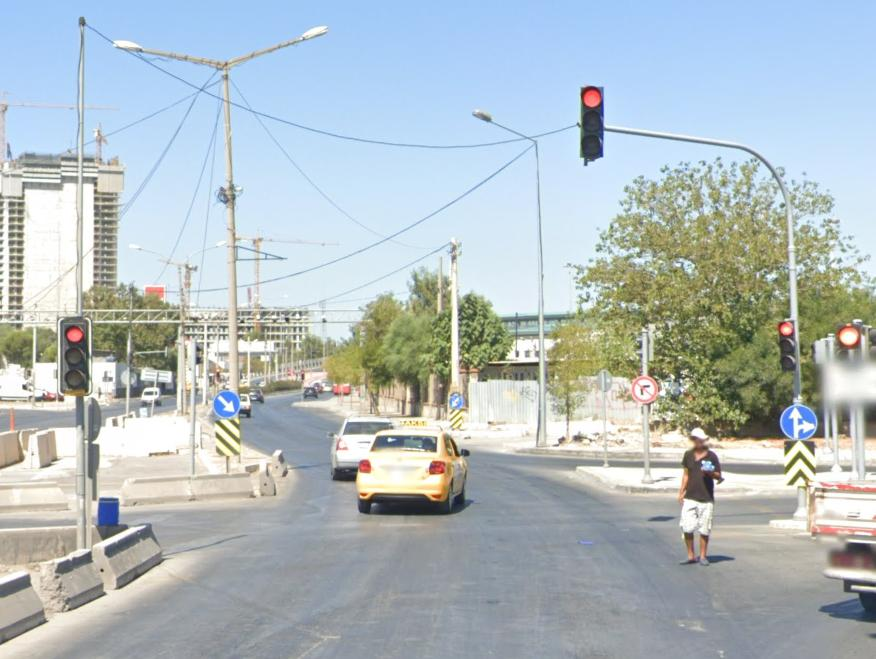redlight: (62, 321, 88, 391), (581, 86, 603, 156), (837, 326, 864, 380), (780, 321, 798, 368)
rightturnsareforbidden: (634, 377, 658, 402)
